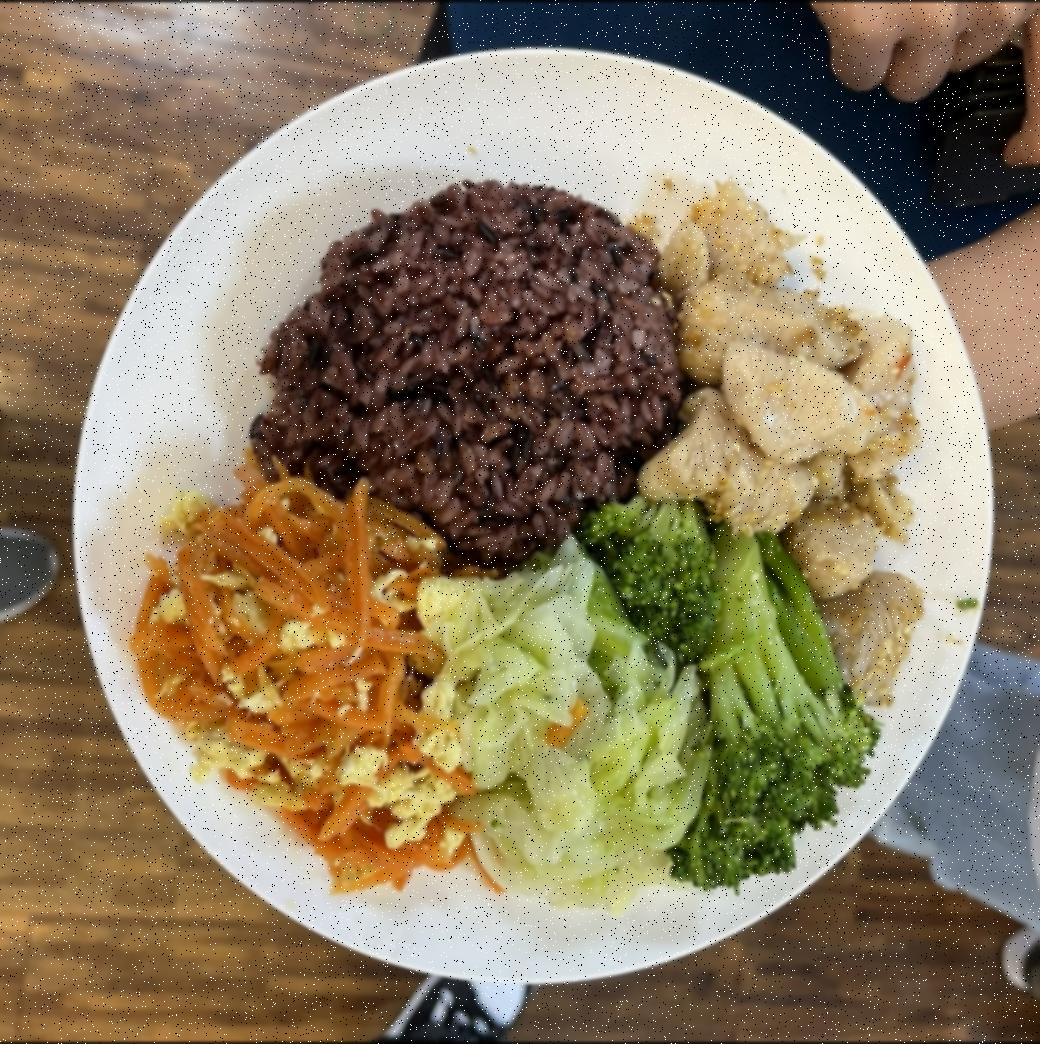big fried chicken leg: (53, 42, 1006, 982)
braised fish: (231, 174, 704, 582)
braised fish fillet: (138, 467, 472, 896), (601, 473, 869, 874), (448, 544, 697, 906)
braised pork: (651, 188, 934, 686)
